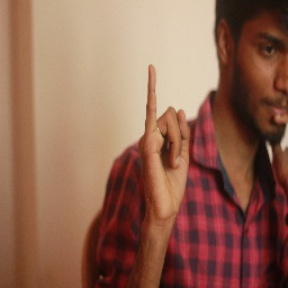I: (139, 63, 191, 226)
